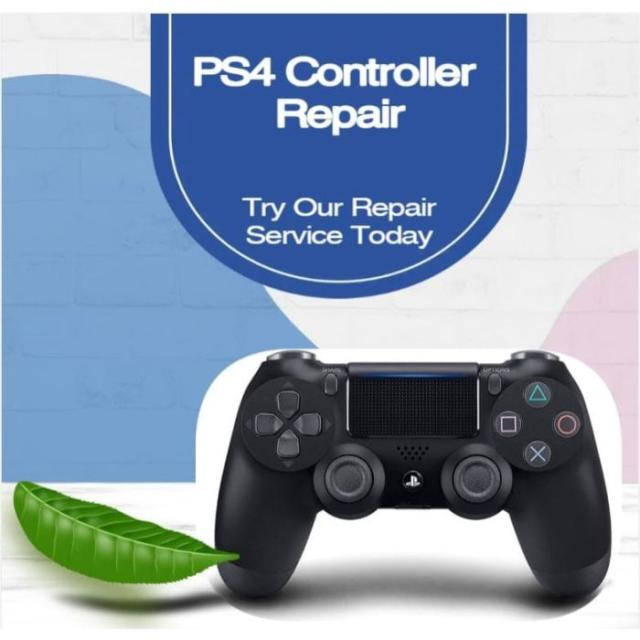ps4_controller: (223, 350, 618, 616)
